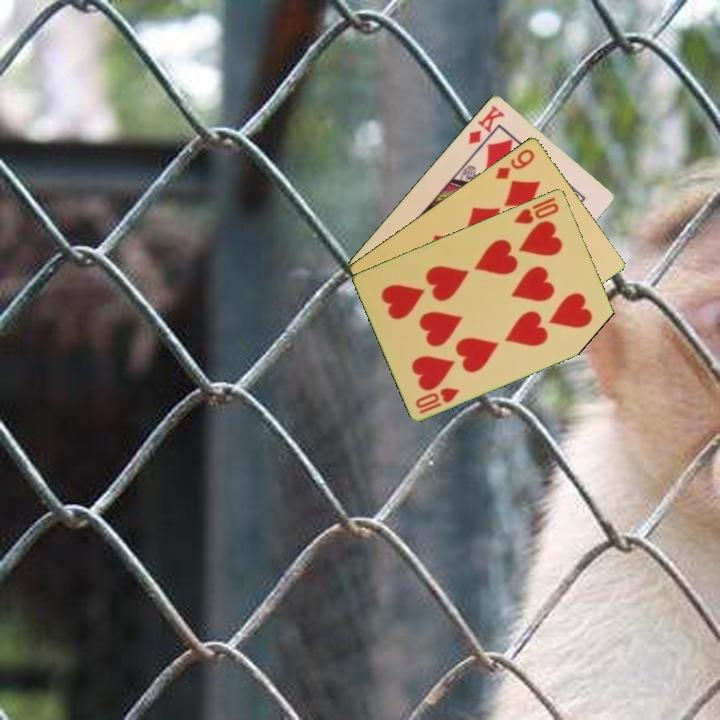10h: (510, 193, 562, 227), (412, 383, 462, 416)
9d: (491, 145, 538, 182)
Kd: (465, 101, 508, 147)
